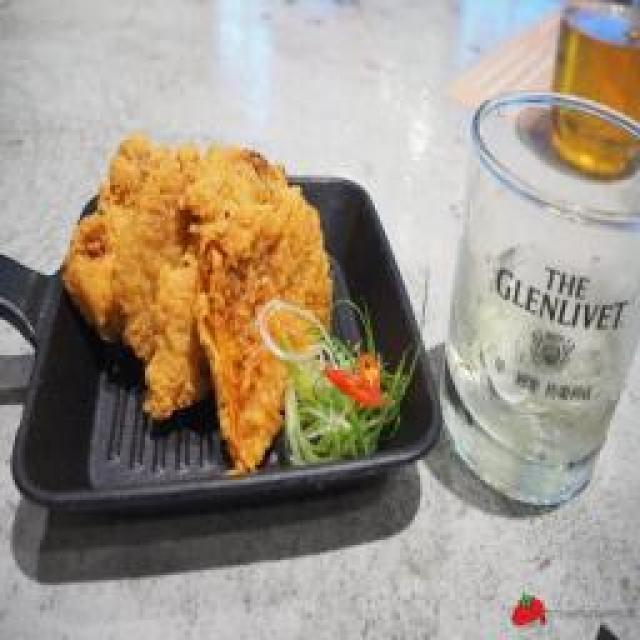Wet Waste: (65, 125, 327, 467)
